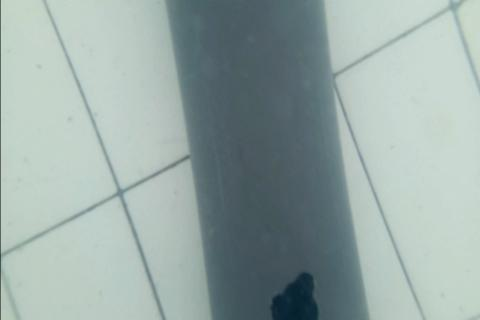kebocoran: (267, 268, 320, 320)
